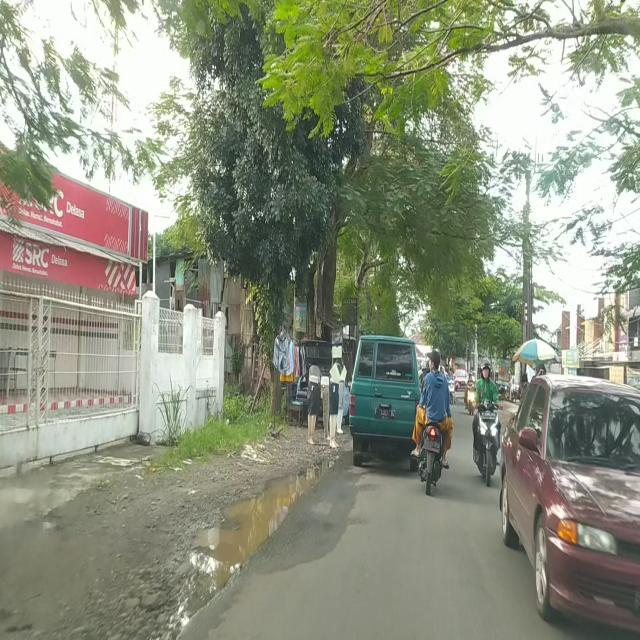Drain Hole: (355, 482, 381, 491), (346, 516, 366, 526)
